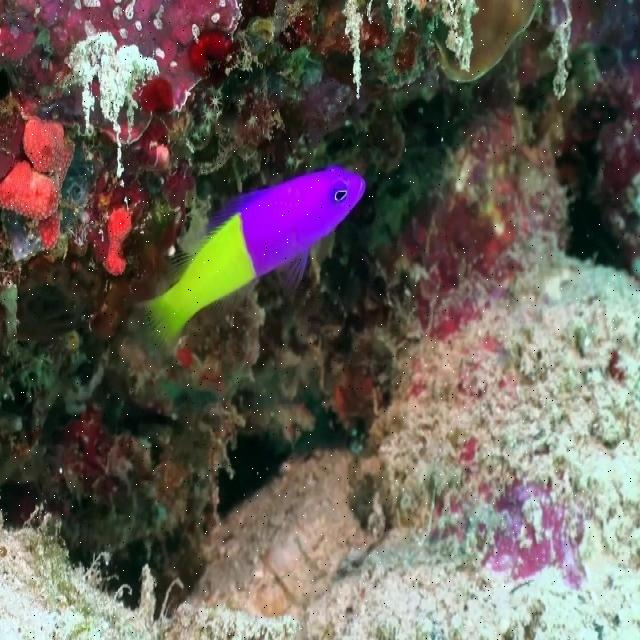fish: (136, 166, 366, 356)
